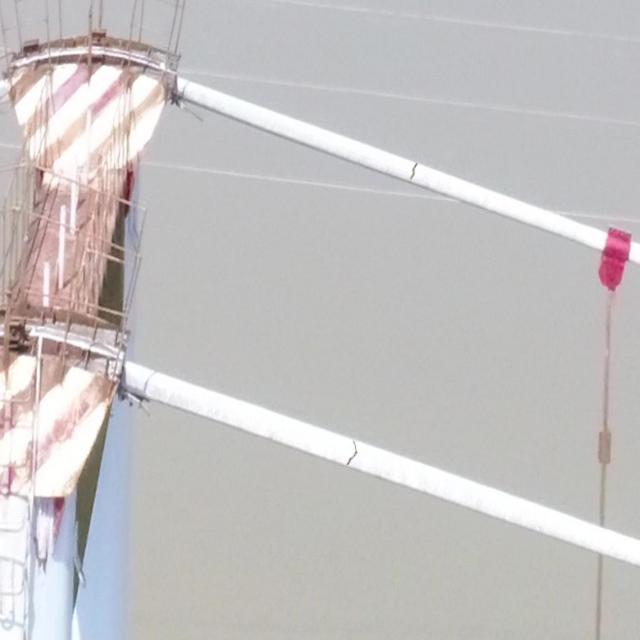crack: (345, 438, 358, 467), (409, 162, 418, 181)
